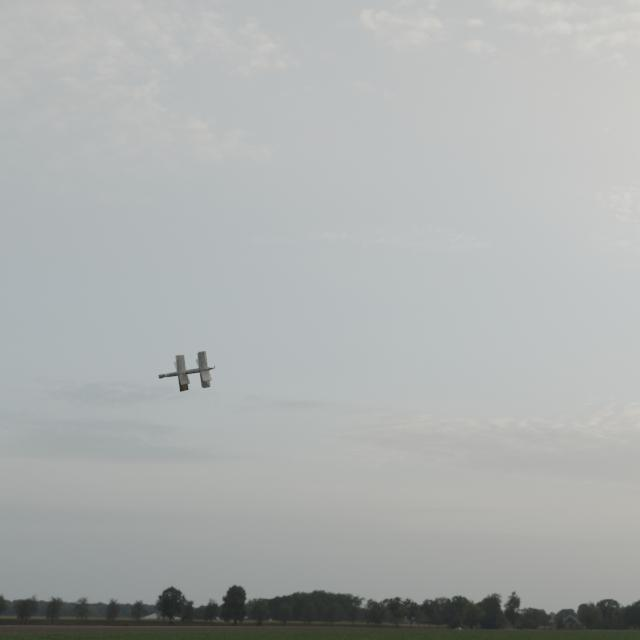Airaplan: (158, 351, 215, 392)
